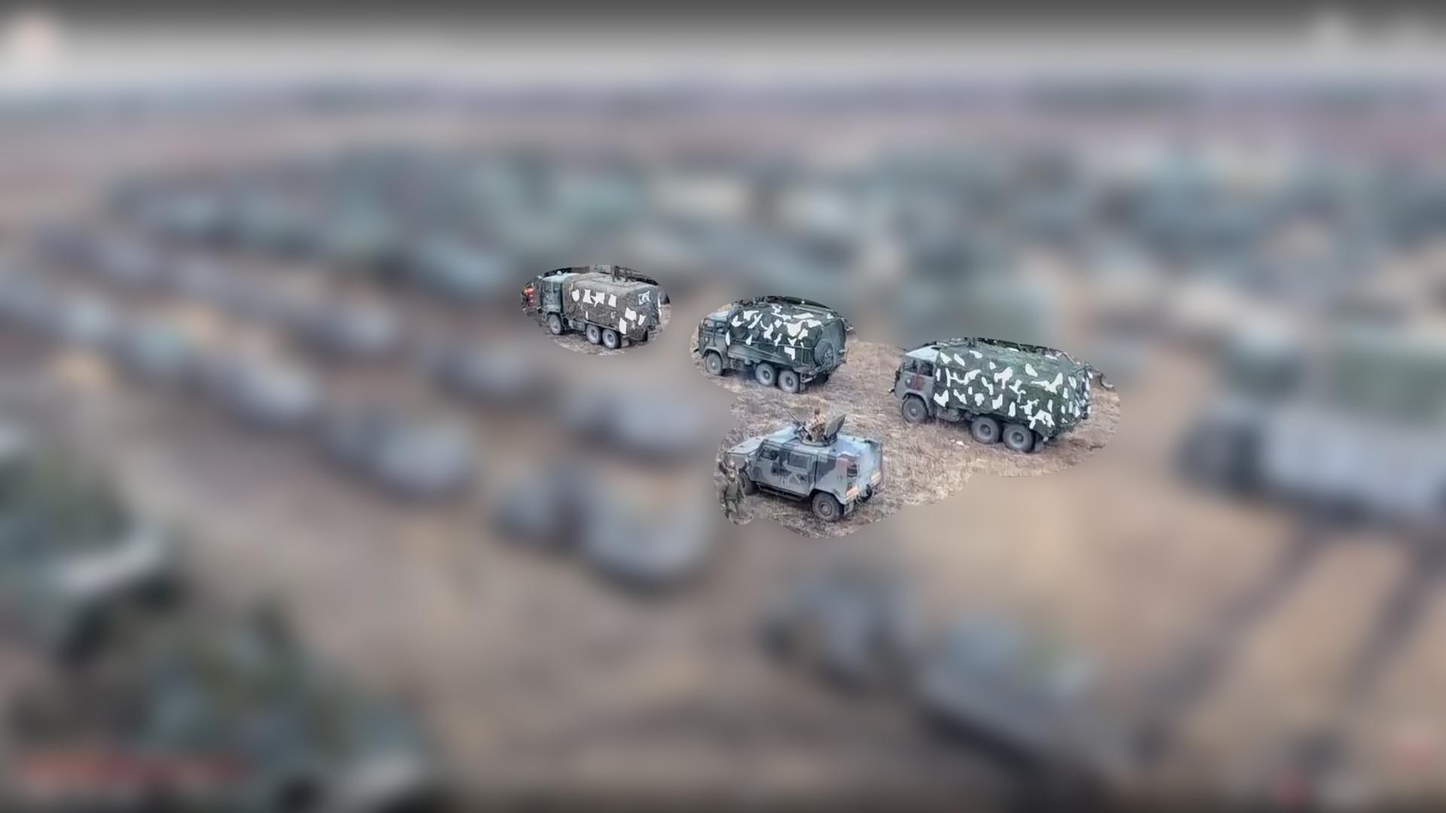armored_car: (715, 421, 886, 527)
truck: (894, 332, 1094, 460), (695, 301, 847, 397), (532, 265, 661, 350)
